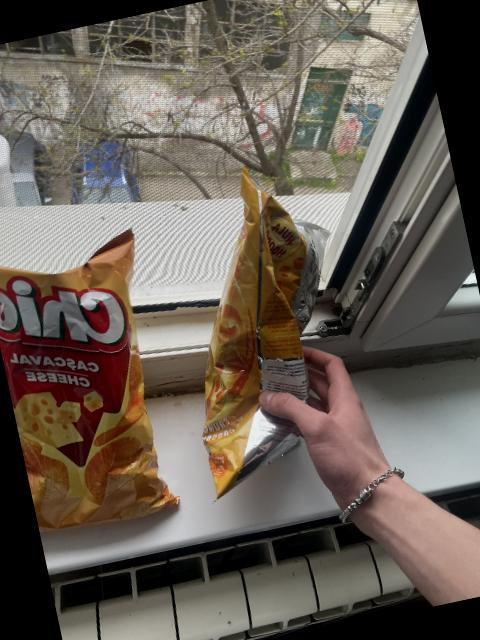Chio Cascaval 125g: (0, 218, 188, 537)
Chio Hula Hoops Cheese 70g: (147, 156, 380, 506)
